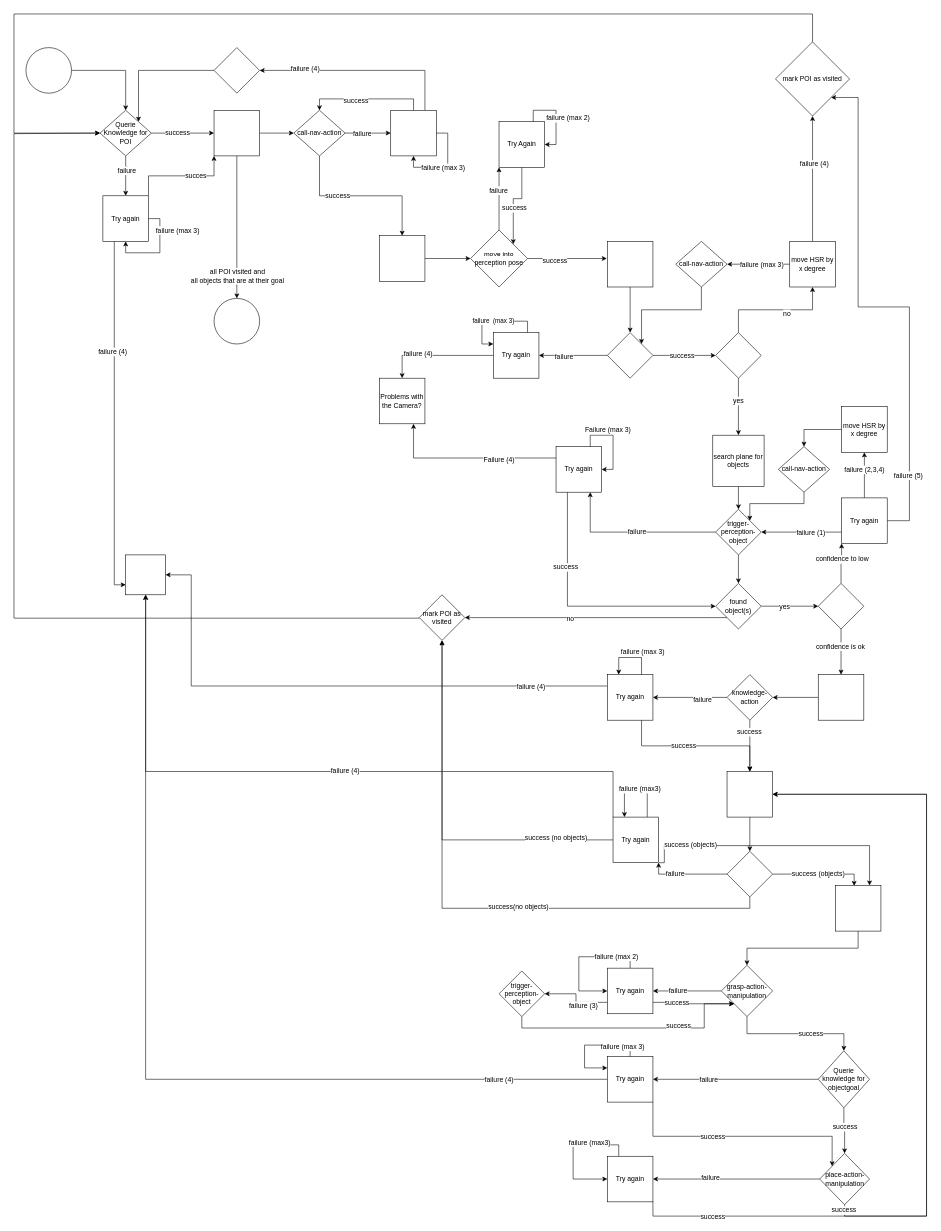
Some shapes in this 941 by 1231 pixel diagram are drawn without their labels. The centre of each missing label's shape, as x and y in pixels:
"check confidence" belongs at point 841,606.
"Grab object and transport it to goal" belongs at point 858,908.
"HSR is in the Room" belongs at point 48,70.
"import object data into knowledge" belongs at point 841,697.
"knowledge broken ?" belongs at point 145,574.
"mark POI as nonviable" belongs at point 236,70.
"Move to first not yet visited POI" belongs at point 236,133.
"plane found?" belongs at point 738,355.
"Querie for objects not yet at goal" belongs at point 749,794.
"Querie-knowledge-objects" belongs at point 749,874.
"Search around POI" belongs at point 630,264.
"search POI" belongs at point 402,258.
"trigger-perception-plane" belongs at point 630,355.
"try again with slightly different coordinates" belongs at point 413,133.
